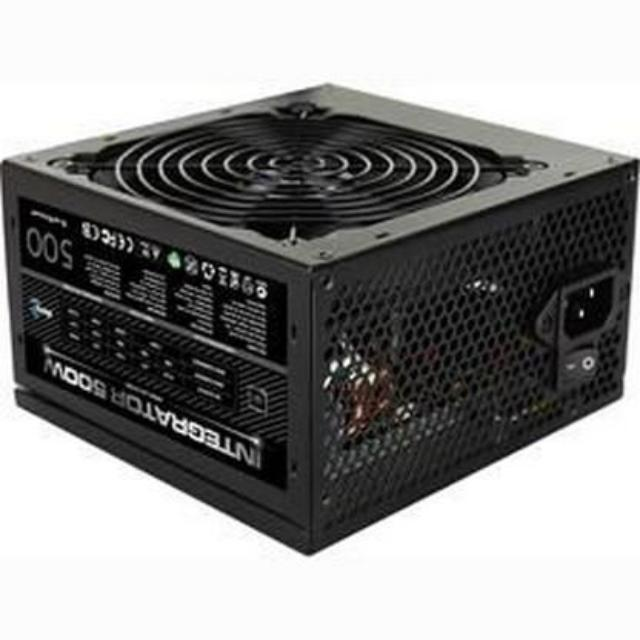PSU: (0, 70, 632, 552)
